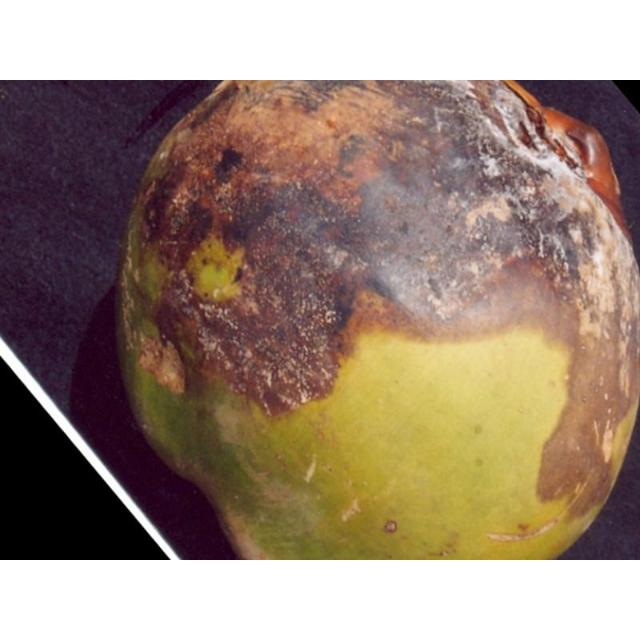damaged: (106, 80, 639, 559)
